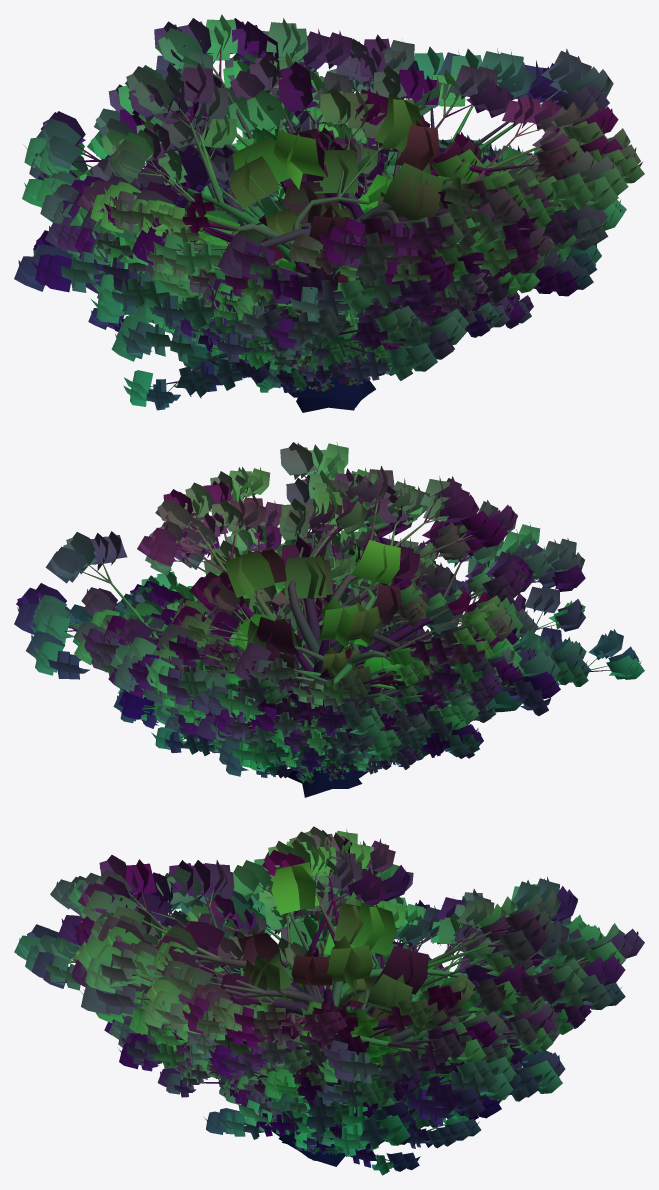
The model's file is trees_fig.glb.
The picture shows the model from 3 angles, top to bottom: view 1: azimuth 30°, elevation 25°; view 2: azimuth 150°, elevation 25°; view 3: azimuth 270°, elevation 25°; orthographic projection. The views are drawn at different scales.
Parts seen in each view (by area): view 1: fig_ancient_04_LOD0, fig_ancient_03_LOD0, fig_ancient_01_LOD0, fig_ancient_02_LOD0, fig_mature_04_LOD0, fig_mature_03_LOD0, fig_mature_01_LOD0, fig_mature_02_LOD0; view 2: fig_ancient_04_LOD0, fig_ancient_03_LOD0, fig_ancient_01_LOD0, fig_ancient_02_LOD0, fig_mature_04_LOD0, fig_mature_03_LOD0, fig_mature_01_LOD0, fig_mature_02_LOD0; view 3: fig_ancient_04_LOD0, fig_ancient_03_LOD0, fig_ancient_01_LOD0, fig_ancient_02_LOD0, fig_mature_04_LOD0, fig_mature_03_LOD0, fig_mature_02_LOD0, fig_mature_01_LOD0.
Part boxes in pixels (x1=…): fig_ancient_04_LOD0: x1=14, y1=14, x2=628, y2=401; fig_ancient_03_LOD0: x1=22, y1=34, x2=644, y2=410; fig_ancient_01_LOD0: x1=45, y1=120, x2=565, y2=386; fig_ancient_02_LOD0: x1=40, y1=84, x2=626, y2=412; fig_mature_04_LOD0: x1=145, y1=143, x2=526, y2=360; fig_mature_03_LOD0: x1=88, y1=168, x2=533, y2=368; fig_mature_01_LOD0: x1=255, y1=262, x2=392, y2=392; fig_mature_02_LOD0: x1=178, y1=189, x2=405, y2=360; fig_ancient_04_LOD0: x1=14, y1=442, x2=560, y2=797; fig_ancient_03_LOD0: x1=73, y1=467, x2=644, y2=776; fig_ancient_01_LOD0: x1=118, y1=524, x2=524, y2=772; fig_ancient_02_LOD0: x1=130, y1=500, x2=538, y2=788; fig_mature_04_LOD0: x1=113, y1=541, x2=451, y2=762; fig_mature_03_LOD0: x1=146, y1=583, x2=496, y2=772; fig_mature_01_LOD0: x1=209, y1=645, x2=432, y2=778; fig_mature_02_LOD0: x1=141, y1=641, x2=450, y2=770; fig_ancient_04_LOD0: x1=58, y1=847, x2=644, y2=1166; fig_ancient_03_LOD0: x1=14, y1=826, x2=625, y2=1160; fig_ancient_01_LOD0: x1=104, y1=870, x2=552, y2=1122; fig_ancient_02_LOD0: x1=161, y1=870, x2=513, y2=1143; fig_mature_04_LOD0: x1=109, y1=920, x2=481, y2=1175; fig_mature_03_LOD0: x1=132, y1=941, x2=537, y2=1154; fig_mature_02_LOD0: x1=173, y1=964, x2=508, y2=1148; fig_mature_01_LOD0: x1=208, y1=983, x2=438, y2=1153.
Size of what is drawn, in the model's own units: 53.17 by 24.62 by 53.07.
